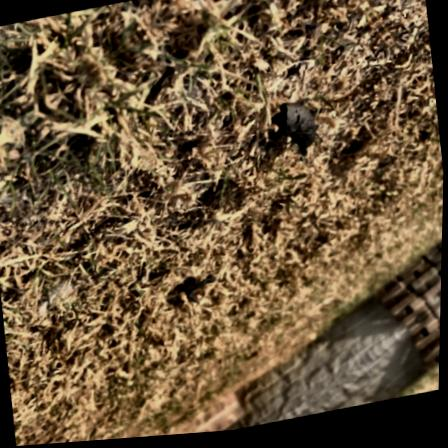dog-poop: (271, 97, 331, 168)
